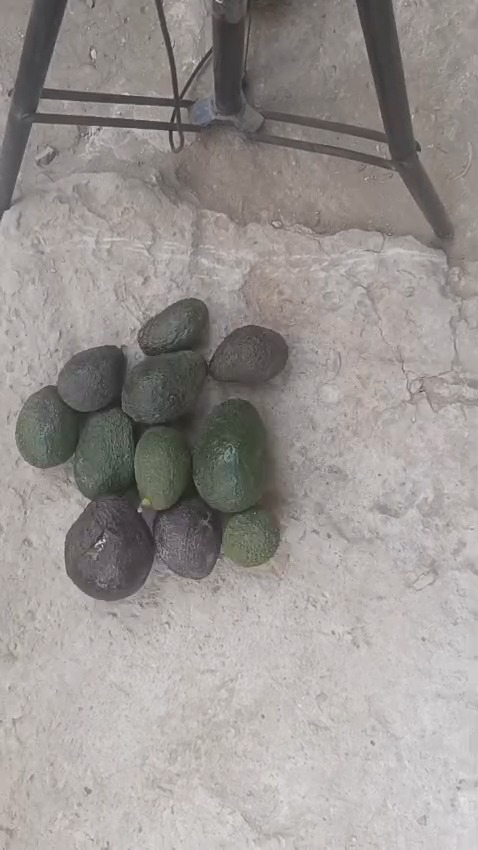Primera: (64, 497, 153, 601), (193, 400, 270, 515)
Segunda: (125, 354, 210, 429), (71, 410, 136, 502), (150, 505, 221, 581)
Tercera: (16, 385, 80, 467), (134, 428, 193, 512), (209, 325, 290, 386), (59, 344, 128, 413), (138, 298, 210, 356), (220, 508, 280, 568)
